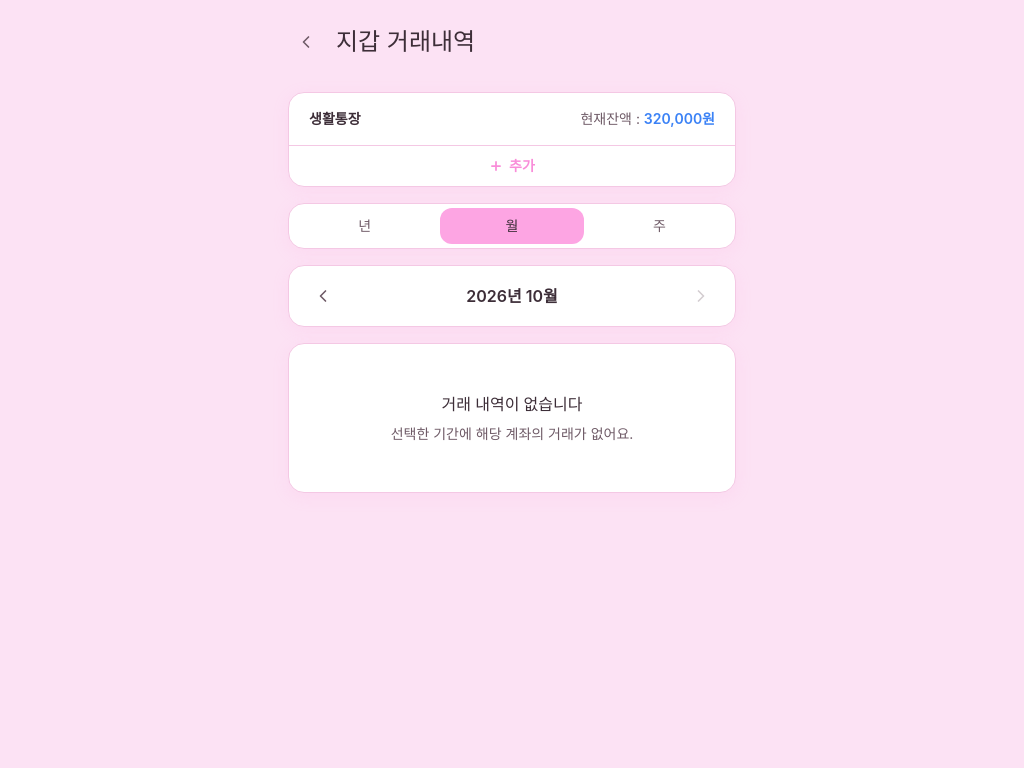
Test: WalletTransactionsPage — ACCOUNT › 계좌의 + 추가에서 자주 쓰는 거래 선택 목록을 연다
Click the button with aria-label "거래등록/계좌이동/자주 쓰는 거래" at (512,166), box [289,145,735,186]
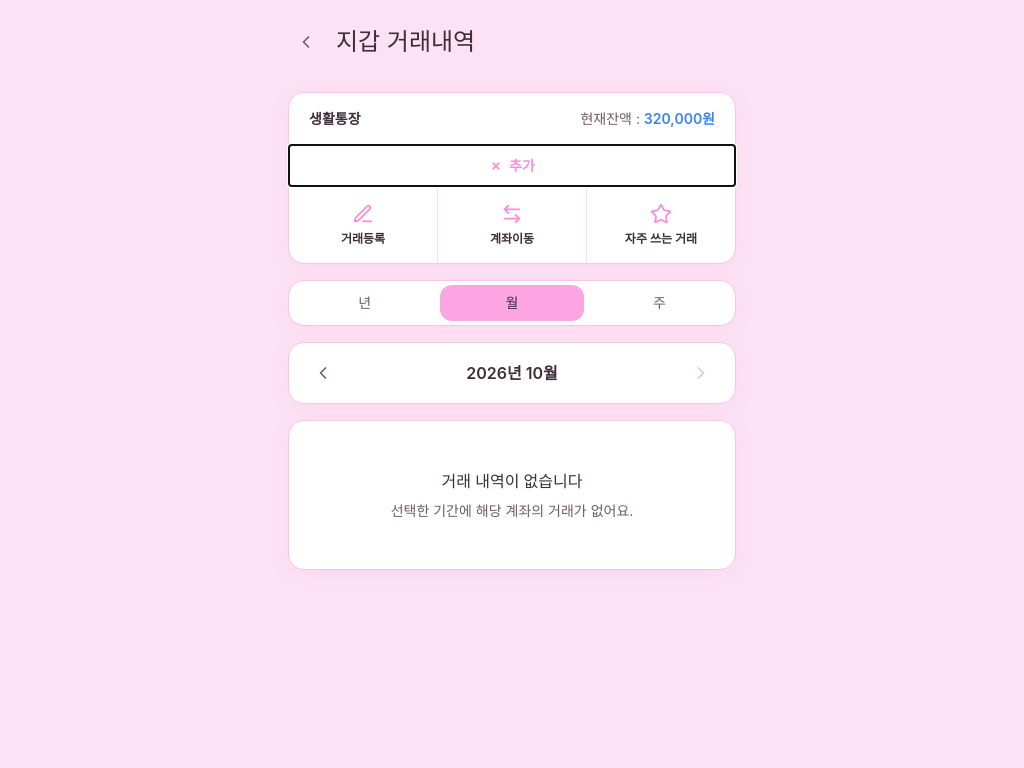
Expected: the button "계좌이동" is shown, [437,187,586,263]
Click the button "자주 쓰는 거래" at (660,225), box [586,187,735,263]
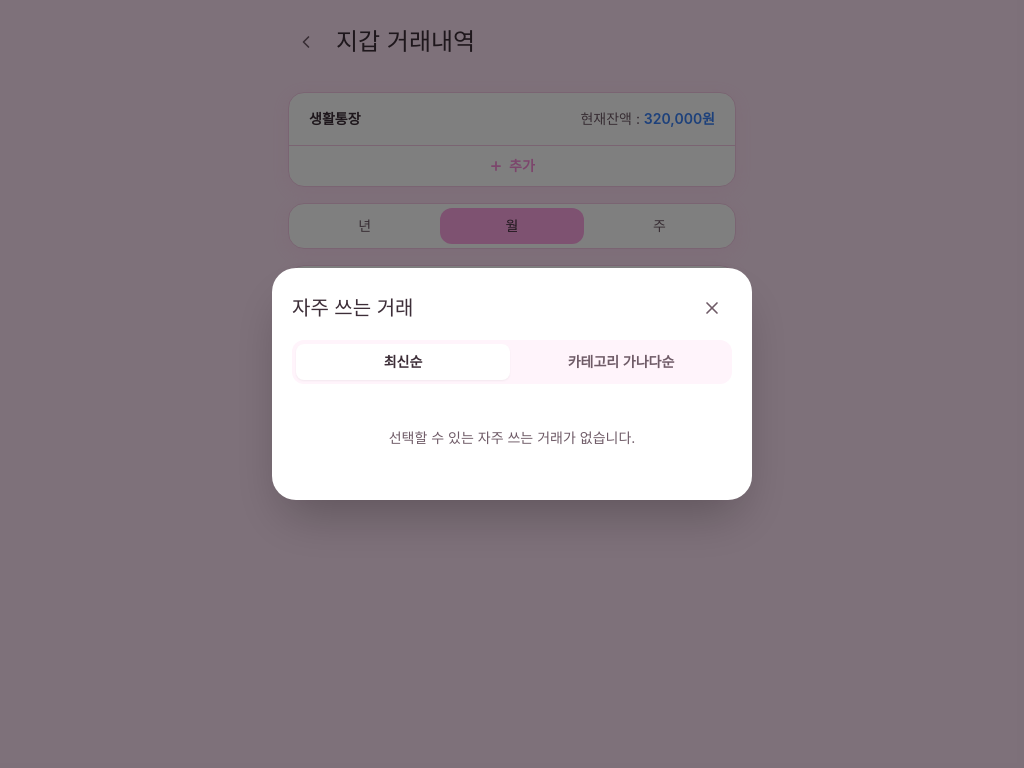
Expected: the dialog is shown, [272,268,752,500]
